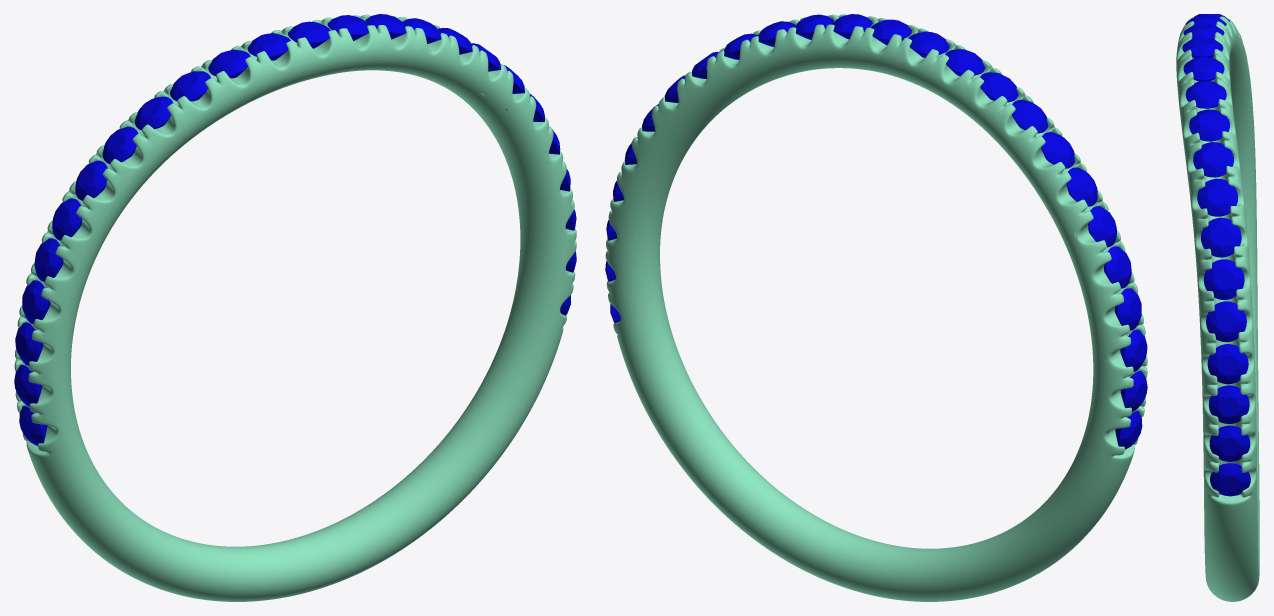
The picture shows the model from 3 angles, left to right: view 1: azimuth 30°, elevation 25°; view 2: azimuth 150°, elevation 25°; view 3: azimuth 270°, elevation 25°; orthographic projection. The views are drawn at different scales.
Visible parts, largest first — view 1: Metal03, Diamond_Band.018, Diamond_Band.017, Diamond_Band.019, Diamond_Band.016, Diamond_Band.020, Diamond_Band.015, Diamond_Band.021, Diamond_Band.014, Diamond_Band.022, Diamond_Band.013, Diamond_Band.012 (+1 smaller); view 2: Metal03, Diamond_Band.018, Diamond_Band.017, Diamond_Band.019, Diamond_Band.016, Diamond_Band.015, Diamond_Band.020, Diamond_Band.021, Diamond_Band.014, Diamond_Band.022, Diamond_Band.013; view 3: Metal03, Diamond_Band.004, Diamond_Band.005, Diamond_Band.003, Diamond_Band.006, Diamond_Band.002, Diamond_Band.007, Diamond_Band.001, Diamond_Band.008, Diamond_Band, Diamond_Band.009, Diamond_Band.010 (+4 smaller).
Part boxes in pixels (x1,y1,x2,y2): Metal03: (14, 14, 576, 601); Diamond_Band.018: (75, 160, 107, 200); Diamond_Band.017: (102, 126, 138, 164); Diamond_Band.019: (52, 198, 82, 240); Diamond_Band.016: (134, 96, 172, 130); Diamond_Band.020: (34, 238, 63, 281); Diamond_Band.015: (170, 71, 210, 101); Diamond_Band.021: (22, 280, 50, 324); Diamond_Band.014: (208, 49, 250, 78); Diamond_Band.022: (15, 322, 43, 365); Diamond_Band.013: (247, 33, 290, 60); Diamond_Band.012: (288, 21, 330, 48); Metal03: (605, 14, 1147, 601); Diamond_Band.018: (1066, 167, 1097, 206); Diamond_Band.017: (1041, 132, 1074, 168); Diamond_Band.019: (1088, 206, 1116, 247); Diamond_Band.016: (1012, 99, 1048, 133); Diamond_Band.015: (980, 72, 1018, 102); Diamond_Band.020: (1104, 246, 1131, 288); Diamond_Band.021: (1114, 288, 1141, 330); Diamond_Band.014: (945, 49, 985, 76); Diamond_Band.022: (1120, 329, 1147, 371); Diamond_Band.013: (908, 31, 949, 57); Metal03: (1176, 16, 1259, 601); Diamond_Band.004: (1206, 301, 1246, 342); Diamond_Band.005: (1203, 259, 1244, 299); Diamond_Band.003: (1207, 344, 1248, 384); Diamond_Band.006: (1201, 217, 1241, 257); Diamond_Band.002: (1208, 385, 1249, 423); Diamond_Band.007: (1197, 178, 1237, 216); Diamond_Band.001: (1209, 425, 1250, 461); Diamond_Band.008: (1193, 142, 1233, 177); Diamond_Band: (1210, 463, 1250, 496); Diamond_Band.009: (1189, 109, 1229, 141); Diamond_Band.010: (1185, 80, 1226, 108).
Size of the model in its own units: 20.86 by 20.87 by 2.97.
